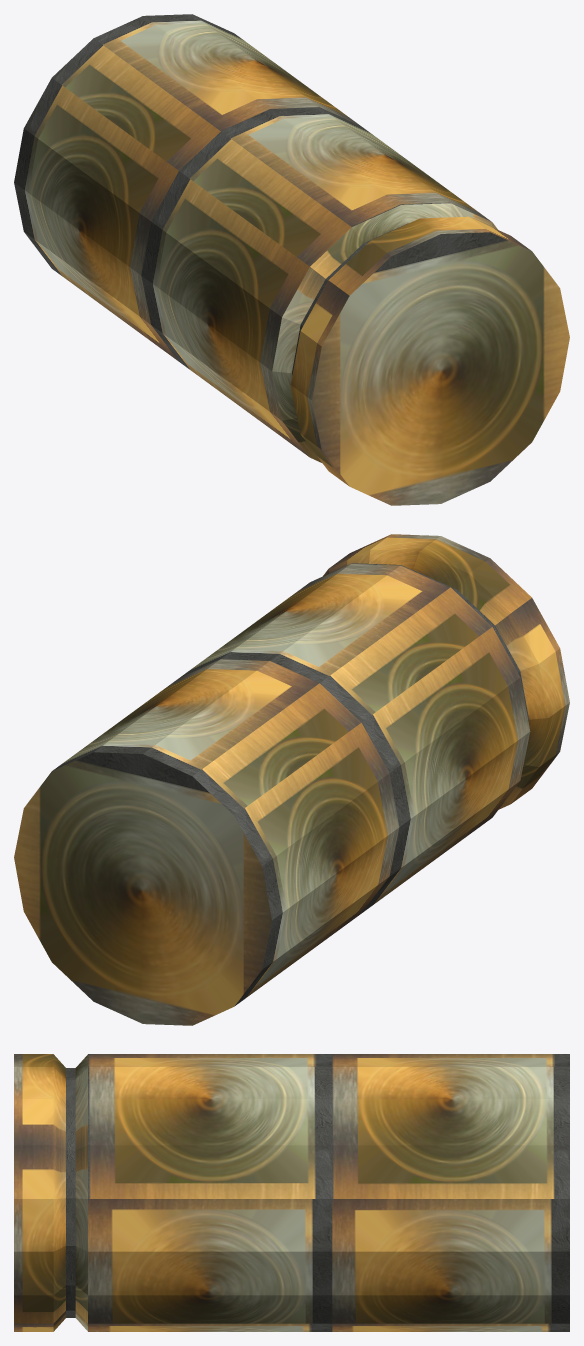
The picture shows the model from 3 angles, top to bottom: view 1: azimuth 30°, elevation 25°; view 2: azimuth 150°, elevation 25°; view 3: azimuth 270°, elevation 25°; orthographic projection. The views are drawn at different scales.
Visible parts, largest first — view 1: Cube_Cube_None_QuartoPieces.png; view 2: Cube_Cube_None_QuartoPieces.png; view 3: Cube_Cube_None_QuartoPieces.png.
Part boxes in pixels (<box>): Cube_Cube_None_QuartoPieces.png: <box>14,14,569,505</box>; Cube_Cube_None_QuartoPieces.png: <box>14,534,569,1025</box>; Cube_Cube_None_QuartoPieces.png: <box>14,1054,569,1331</box>.
Bounding box in the file's own units: 2 × 2 × 4.
